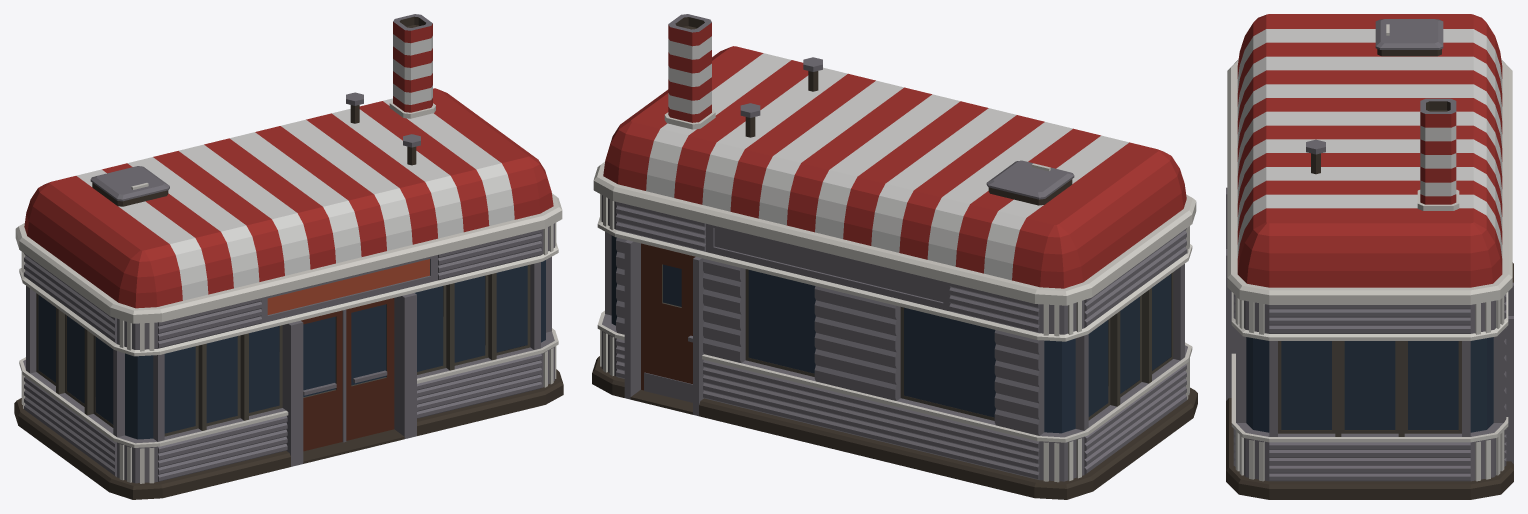
File: street-diner-40fc87.glb
The picture shows the model from 3 angles, left to right: view 1: azimuth 30°, elevation 25°; view 2: azimuth 150°, elevation 25°; view 3: azimuth 270°, elevation 25°; orthographic projection. The views are drawn at different scales.
Parts seen in each view (by area): view 1: diner-body, door-right-mesh, door-left-mesh, flue-stack-mesh, roof-hatch-mesh; view 2: diner-body, flue-stack-mesh, roof-hatch-mesh; view 3: diner-body, flue-stack-mesh, roof-hatch-mesh.
Boxes of the visible parts, x1=… form: diner-body: x1=14, y1=88, x2=563, y2=499; door-right-mesh: x1=342, y1=298, x2=394, y2=442; door-left-mesh: x1=301, y1=310, x2=342, y2=451; flue-stack-mesh: x1=389, y1=14, x2=435, y2=118; roof-hatch-mesh: x1=90, y1=166, x2=169, y2=201; diner-body: x1=592, y1=46, x2=1197, y2=499; flue-stack-mesh: x1=664, y1=14, x2=715, y2=129; roof-hatch-mesh: x1=986, y1=160, x2=1074, y2=199; diner-body: x1=1226, y1=14, x2=1513, y2=499; flue-stack-mesh: x1=1417, y1=98, x2=1459, y2=210; roof-hatch-mesh: x1=1375, y1=19, x2=1443, y2=49.
Size of the model in its own units: 8 by 5.45 by 4.
